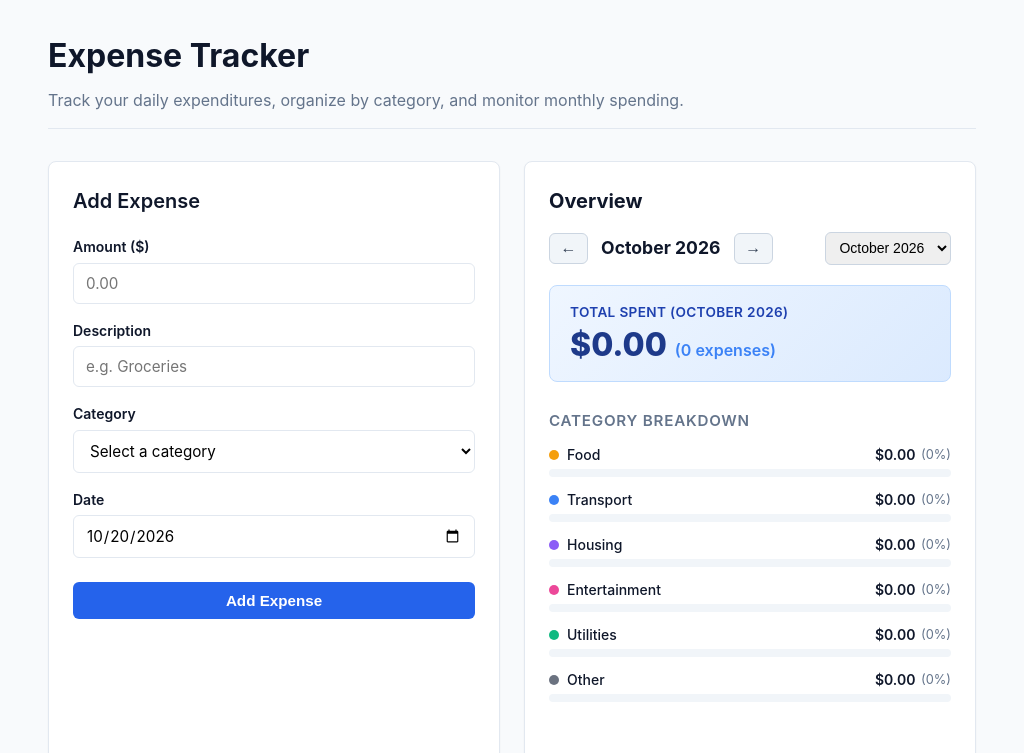
Test case: QA Edge Case & Boundary Verification - Issue #7 (Expense Count next to Total) › Full Application Integration and Reactive State Changes › automatically switches selected month to new expense month and updates count
The image size is (1024, 753).
Expected: the text with test id "monthly-total-count" reads "(0 expenses)", top-left (675, 338), bottom-right (776, 362)
// Add expense for November 2026 while October 2026 was initially selected
Type "100.00" into the number field labelled "Amount ($)" at {"x": 274, "y": 283}, box top-left (73, 263), bottom-right (475, 304)
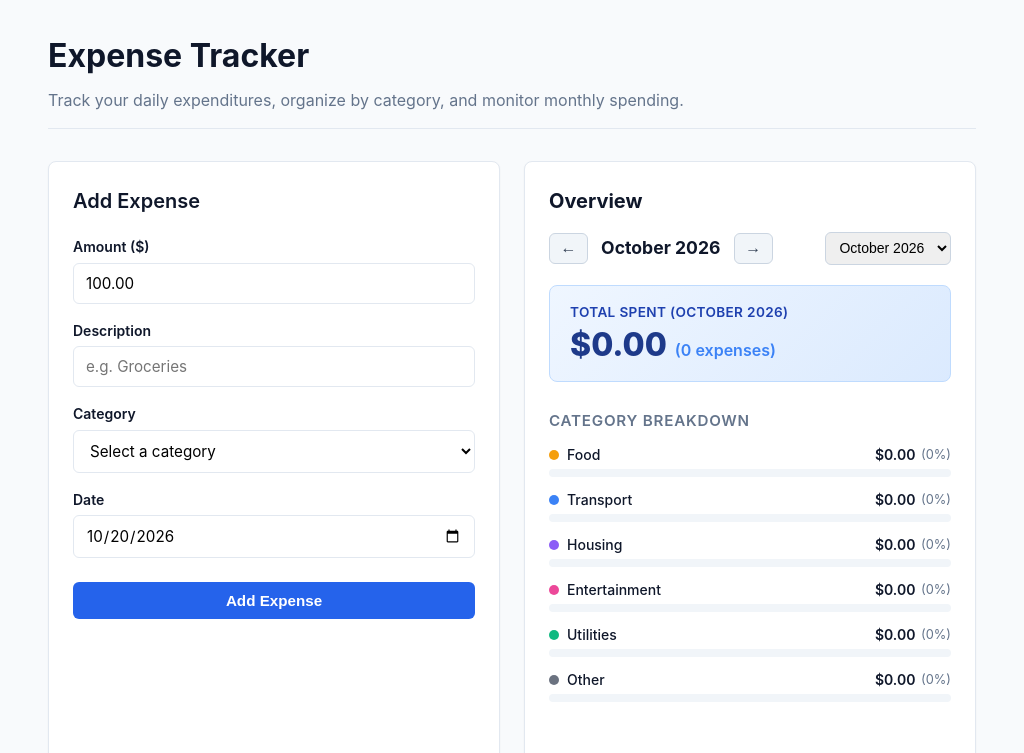
Type "November Rent" into the field labelled "Description" at {"x": 274, "y": 367}, box top-left (73, 346), bottom-right (475, 387)
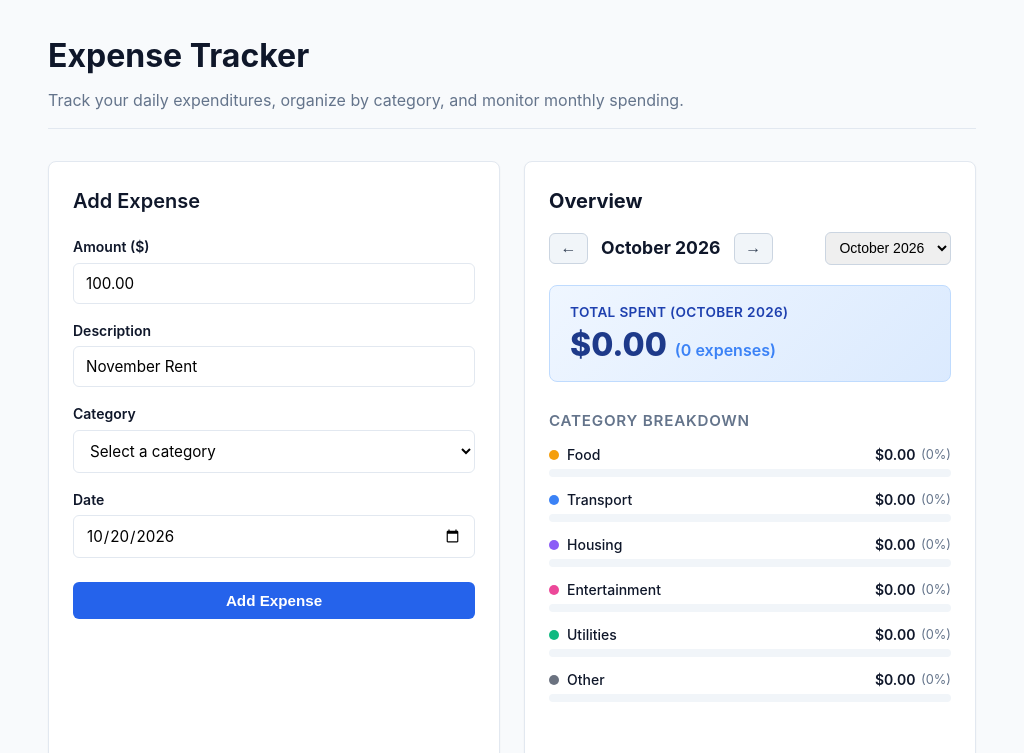
Select "Housing" in the dropdown labelled "Category" at {"x": 274, "y": 451}, box top-left (73, 430), bottom-right (475, 473)
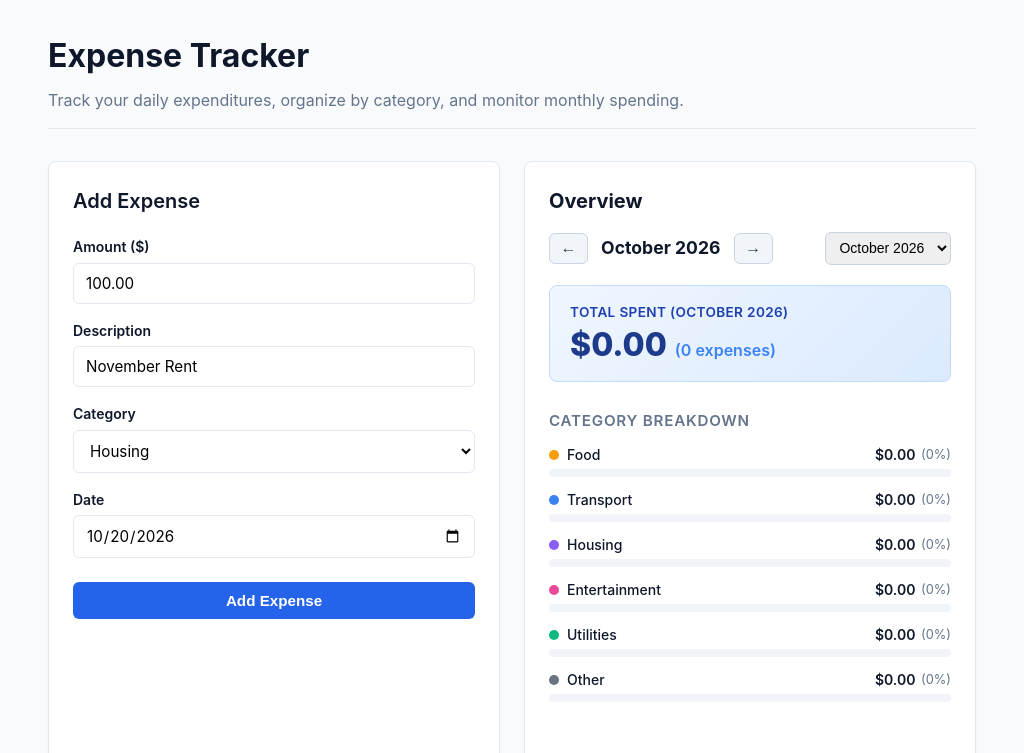
Type "2026-11-01" into the date field labelled "Date" at {"x": 274, "y": 537}, box top-left (73, 515), bottom-right (475, 558)
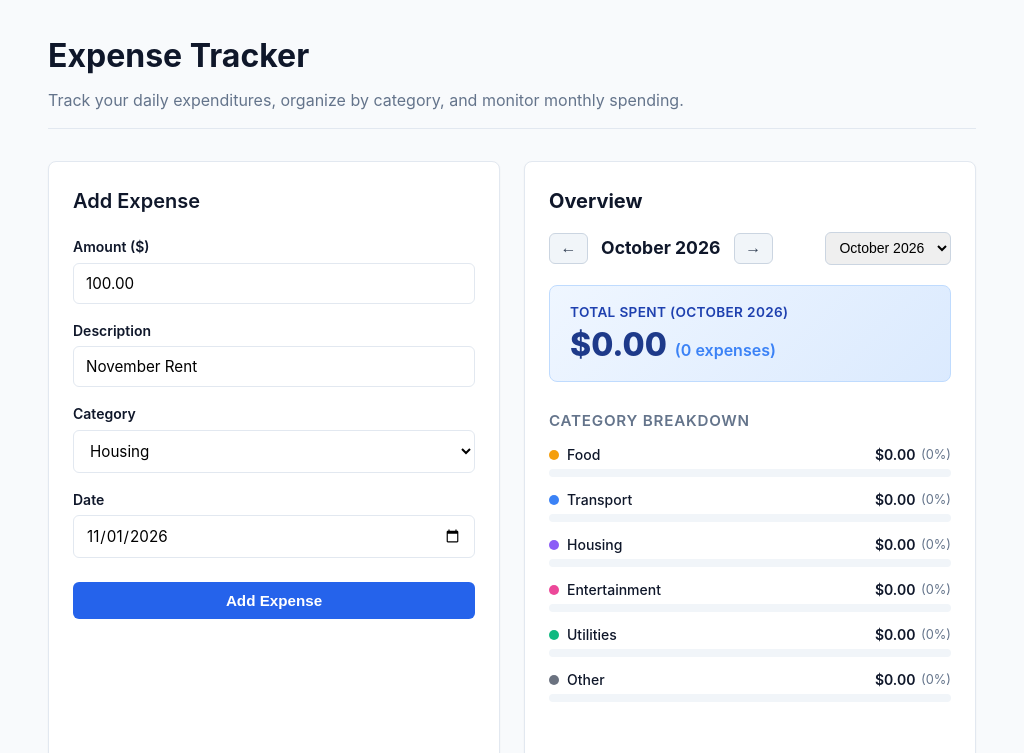
Click the button "Add Expense" at {"x": 274, "y": 601}, box top-left (73, 582), bottom-right (475, 619)
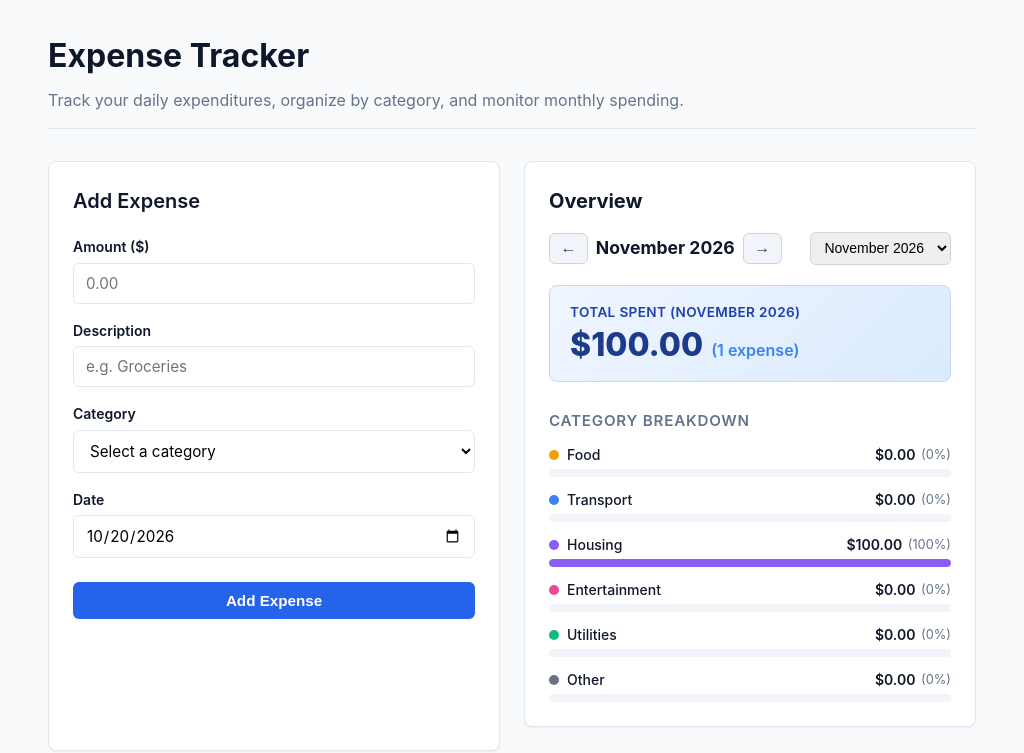
Now the text with test id "monthly-total-value" reads "$100.00", box top-left (570, 325), bottom-right (703, 364)
Now the text with test id "monthly-total-count" reads "(1 expense)", box top-left (711, 338), bottom-right (799, 362)
// Switch back to October 2026 to verify October is still 0 expenses
Click the button named "previous month" at {"x": 568, "y": 248}, box top-left (549, 233), bottom-right (588, 264)
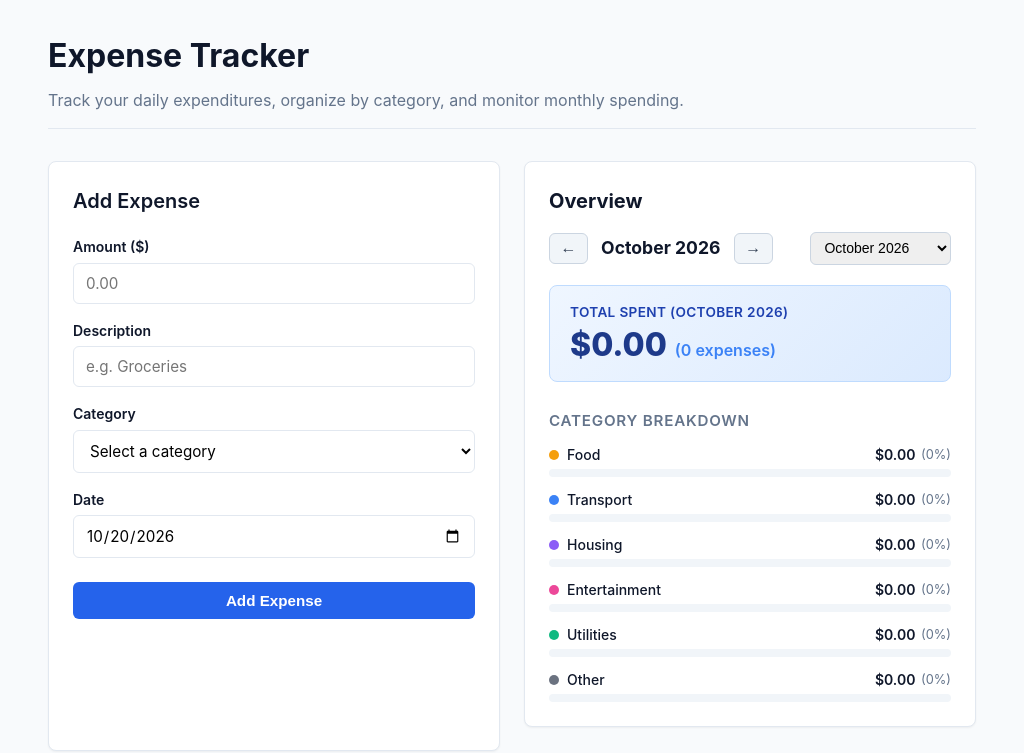
Now the text with test id "monthly-total-value" reads "$0.00", box top-left (570, 325), bottom-right (667, 364)
Now the text with test id "monthly-total-count" reads "(0 expenses)", box top-left (675, 338), bottom-right (776, 362)
